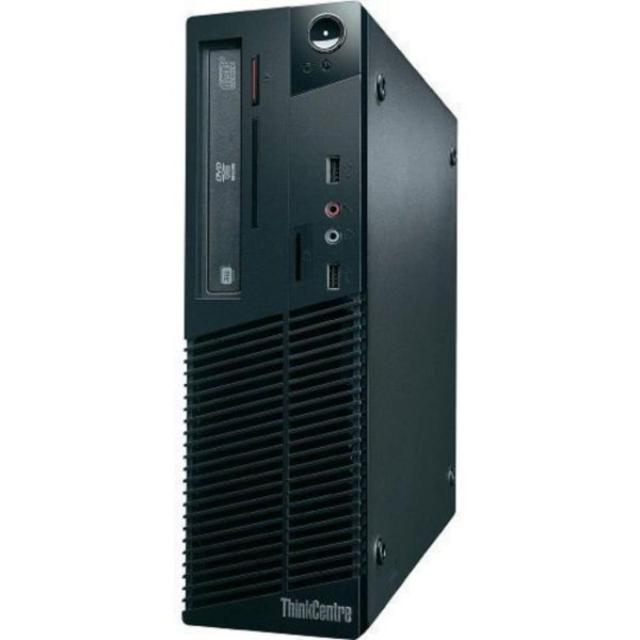Desktop-PC: (185, 4, 455, 640)
